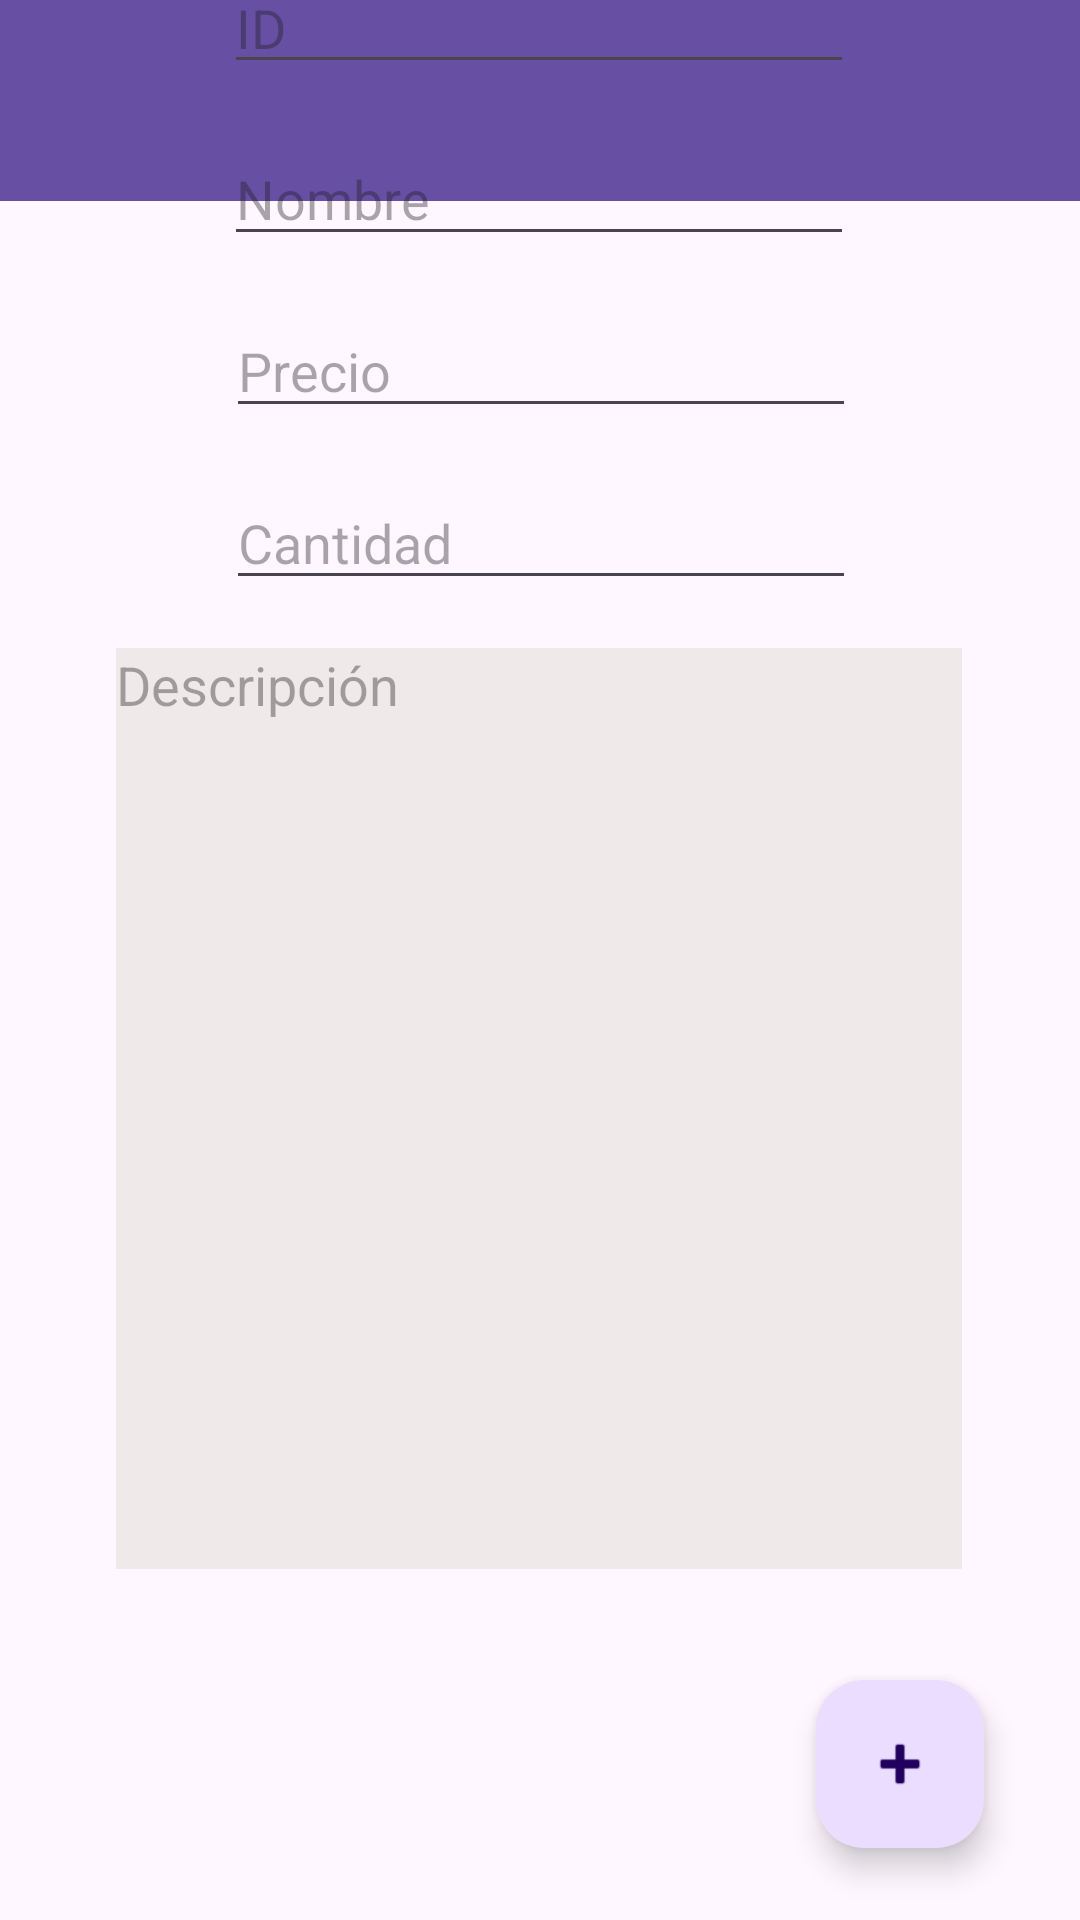

Icon bounding boxes for this 1080 × 1920 phone screenshot, format (x1, y1, x2, y2):
add: (816, 1680, 984, 1848)
